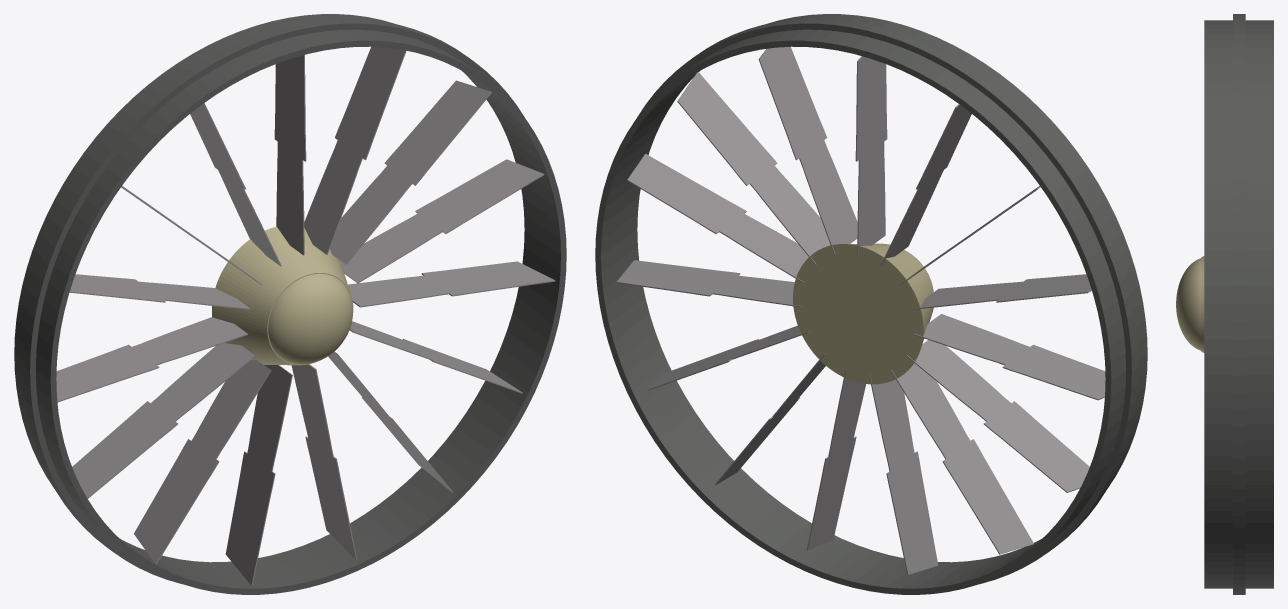
The model's file is Frontframe_ensamble.glb.
3 renders of one model, left to right at view 1: azimuth 30°, elevation 25°; view 2: azimuth 150°, elevation 25°; view 3: azimuth 270°, elevation 25°, orthographic. The views are drawn at different scales.
Visible parts, largest first — view 1: frontframeblades, frontframe, frontcone; view 2: frontframeblades, frontframe, frontcone; view 3: frontframe, frontcone.
Part boxes in pixels (x1,y1,x2,y2): frontframeblades: (56, 47, 555, 585); frontframe: (14, 14, 566, 594); frontcone: (212, 226, 353, 365); frontframeblades: (616, 47, 1105, 574); frontframe: (595, 14, 1147, 594); frontcone: (793, 243, 933, 384); frontframe: (1204, 14, 1273, 594); frontcone: (1176, 256, 1204, 352).
Bounding box in the file's own units: 460 × 460 × 77.49.
